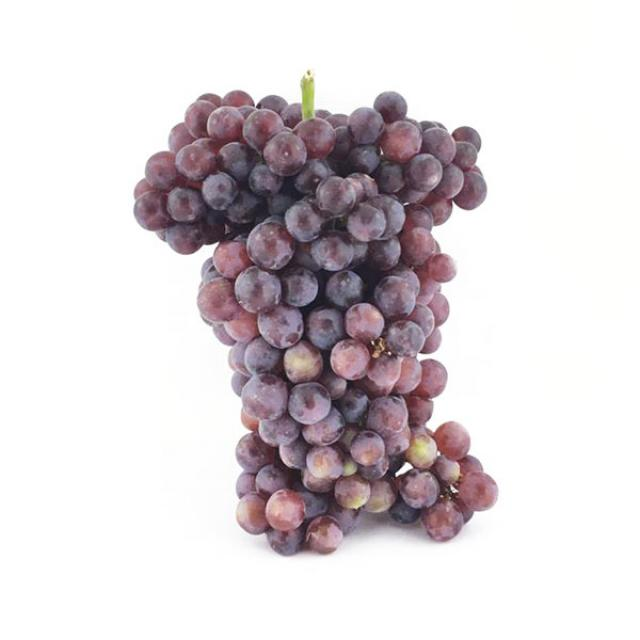grape: (129, 64, 504, 564)
